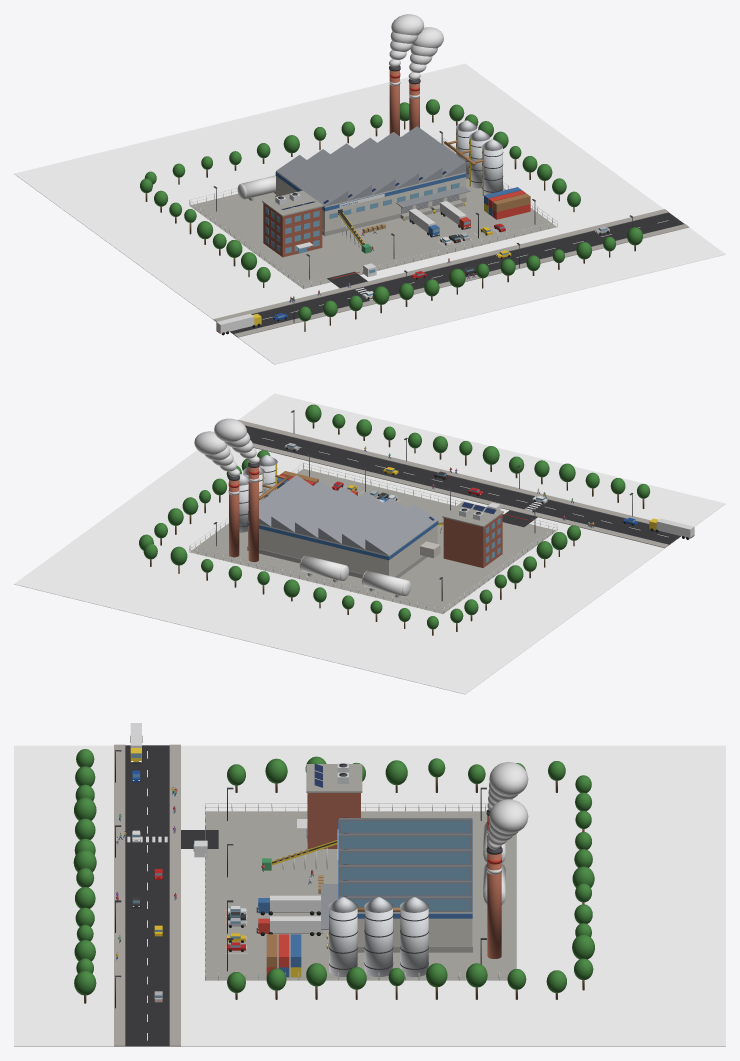
Rendered from factory0.glb.
The picture shows the model from 3 angles, top to bottom: view 1: azimuth 30°, elevation 25°; view 2: azimuth 150°, elevation 25°; view 3: azimuth 270°, elevation 25°; orthographic projection. The views are drawn at different scales.
Parts seen in each view (by area): view 1: Ground, Yard, Road, MainHall, Sidewalk1, Office, RoofTooth0, Sidewalk-1, RoofTooth2, RoofTooth5, RoofTooth4, RoofTooth1 (+7 smaller); view 2: Ground, Yard, Road, MainHall, Office, Sidewalk1, Sidewalk-1, RoofTooth0, RoofTooth2, RoofTooth4, RoofTooth1, RoofTooth3 (+10 smaller); view 3: Ground, Yard, Road, Sidewalk1, Sidewalk-1, Office, MainHall, Silo1, Silo2, Silo0, Skylight1, Skylight4 (+19 smaller).
Boxes of the visible parts, x1,y1,x2,y2 form: Ground: (14,63,725,364); Yard: (189,143,556,288); Road: (230,212,684,334); MainHall: (276,171,465,231); Sidewalk1: (213,209,668,321); Office: (263,203,322,257); RoofTooth0: (276,155,348,206); Sidewalk-1: (234,224,689,337); RoofTooth2: (330,143,395,194); RoofTooth5: (401,126,465,177); RoofTooth4: (378,132,442,183); RoofTooth1: (307,149,371,200); Ground: (14,393,725,694); Yard: (189,468,556,613); Road: (245,426,680,544); MainHall: (248,520,437,576); Office: (443,514,502,567); Sidewalk1: (253,443,668,547); Sidewalk-1: (237,419,649,524); RoofTooth0: (365,503,437,555); RoofTooth2: (318,492,383,543); RoofTooth4: (271,481,335,532); RoofTooth1: (342,498,406,549); RoofTooth3: (295,486,359,537); Ground: (14,745,725,1046); Yard: (205,811,516,980); Road: (125,745,169,1046); Sidewalk1: (169,744,180,1046); Sidewalk-1: (114,744,125,1046); Office: (307,793,360,848); MainHall: (357,912,472,946); Silo1: (364,908,392,976); Silo2: (400,908,428,976); Silo0: (329,908,357,976); Skylight1: (341,836,469,848); Skylight4: (341,883,469,895).
Size of what is drawn, in the model's own units: 164 by 47.22 by 160.
